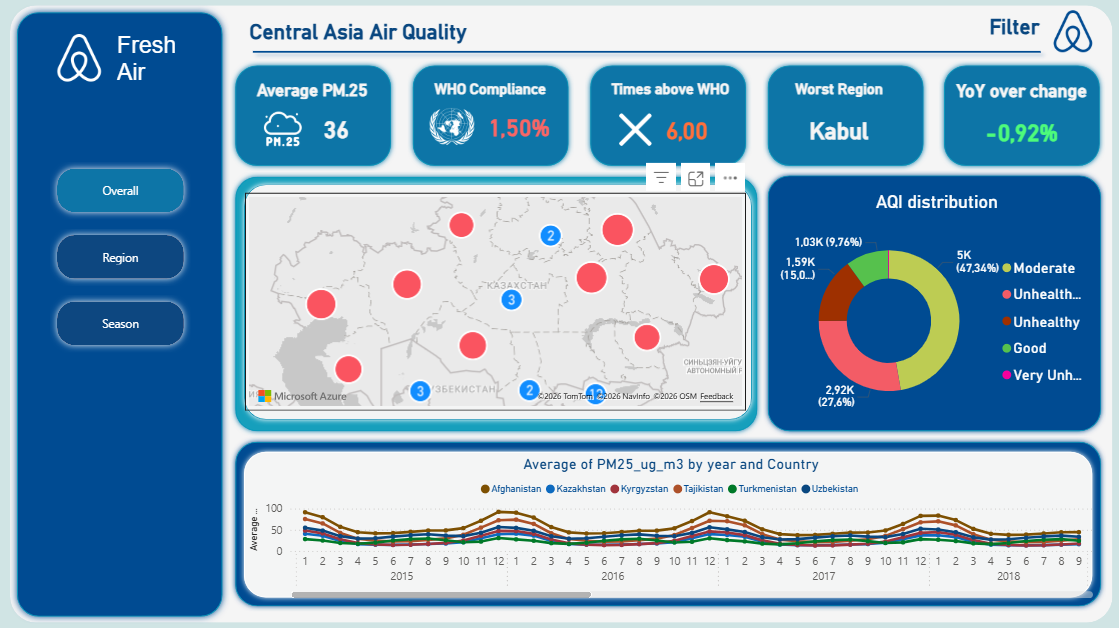

What the dashboard file says about the page in this screenshot:
{"tool":"powerbi","page":{"name":"Overall","canvas":[1280,720],"ordinal":0},"visuals":[{"type":"shape","box":[11.4,6.4,1260,705.7],"z":0},{"type":"shape","box":[10.8,6.7,250.8,706.7],"z":1000},{"type":"image","box":[1188.3,13.3,75,48.3],"z":2000},{"type":"image","box":[53.3,40,75.3,54.7],"z":3000},{"type":"textbox","box":[128.7,32.7,86.7,73.3],"z":4000},{"type":"shape","box":[263.3,70,190,126.7],"z":5000},{"type":"shape","box":[280,33.3,918.3,55],"z":6000},{"type":"shape","box":[465.8,70,190,126.7],"z":7000},{"type":"shape","box":[668.3,70,190,126.7],"z":8000},{"type":"shape","box":[870.8,70,190,126.7],"z":9000},{"type":"shape","box":[1073.3,70,190,126.7],"z":10000},{"type":"shape","box":[262.9,197.1,608.6,302.9],"z":11000},{"type":"shape","box":[871.4,195.7,392.9,304.3],"z":12000},{"type":"cardVisual","title":"Average PM.25","fields":{"Data":["Avg(central_asia_air.PM25_ug_m3)"]},"box":[273.3,93.3,168.3,95],"z":13000},{"type":"cardVisual","title":"WHO Compliance","fields":{"Data":["All measures.WHO Failure Rate"]},"box":[458.3,93.3,203.3,91.7],"z":14000},{"type":"cardVisual","title":"Times above WHO ","fields":{"Data":["Min(central_asia_air.Times_Above_WHO)"]},"box":[678.3,93.3,175,100],"z":15000},{"type":"shape","box":[272.5,206.2,592.5,281.2],"z":16000},{"type":"cardVisual","title":"Worst Region","fields":{"Data":["All measures.Worst Region Name"]},"box":[871.7,93.3,175,100],"z":17000},{"type":"cardVisual","title":"YoY over change","fields":{"Data":["All measures.YoY Change %"]},"box":[1080,93.3,175,100],"z":18000},{"type":"azureMap","fields":{"Category":["central_asia_air.Region"],"Size":["Avg(central_asia_air.PM25_ug_m3)"]},"box":[280,221.4,572.9,248.6],"z":19000},{"type":"donutChart","title":"AQI distribution","fields":{"Category":["central_asia_air.AQI_Category"],"Y":["CountNonNull(central_asia_air.AQI_Category)"]},"box":[884.3,220,372.9,277.1],"z":20000},{"type":"shape","box":[262.9,500,1001.4,200],"z":21000},{"type":"shape","box":[272.9,511.4,981.4,178.6],"z":22000},{"type":"lineChart","title":"Average of PM25_ug_m3 by year  and Country","fields":{"Category":["central_asia_air.Date.Variation.Date Hierarchy.Year","central_asia_air.Month"],"Y":["Avg(central_asia_air.PM25_ug_m3)"],"Series":["central_asia_air.Country"]},"box":[280,521.4,974.3,168.6],"z":23000},{"type":"pageNavigator","box":[56.7,185,161.7,220],"z":24000},{"type":"textbox","box":[280,18.6,300,42.9],"z":25000},{"type":"textbox","box":[1125,13.3,101.7,43.3],"z":27000}]}

Visuals, with their boxes in screenshot pixels (x1, y1, x2, y2), scaled from the page's 1280x720 canvas onto the 1119x628 screenshot:
shape: x1=10, y1=6, x2=1111, y2=621
shape: x1=9, y1=6, x2=229, y2=622
image: x1=1039, y1=12, x2=1104, y2=54
image: x1=47, y1=35, x2=112, y2=83
textbox: x1=113, y1=29, x2=188, y2=92
shape: x1=230, y1=61, x2=396, y2=172
shape: x1=245, y1=29, x2=1048, y2=77
shape: x1=407, y1=61, x2=573, y2=172
shape: x1=584, y1=61, x2=750, y2=172
shape: x1=761, y1=61, x2=927, y2=172
shape: x1=938, y1=61, x2=1104, y2=172
shape: x1=230, y1=172, x2=762, y2=436
shape: x1=762, y1=171, x2=1105, y2=436
"Average PM.25" cardVisual: x1=239, y1=81, x2=386, y2=164
"WHO Compliance" cardVisual: x1=401, y1=81, x2=578, y2=161
"Times above WHO " cardVisual: x1=593, y1=81, x2=746, y2=169
shape: x1=238, y1=180, x2=756, y2=425
"Worst Region" cardVisual: x1=762, y1=81, x2=915, y2=169
"YoY over change" cardVisual: x1=944, y1=81, x2=1097, y2=169
azureMap - central_asia_air.Region x Avg(central_asia_air.PM25_ug_m3): x1=245, y1=193, x2=746, y2=410
"AQI distribution" donutChart: x1=773, y1=192, x2=1099, y2=434
shape: x1=230, y1=436, x2=1105, y2=611
shape: x1=239, y1=446, x2=1097, y2=602
"Average of PM25_ug_m3 by year  and Country" lineChart: x1=245, y1=455, x2=1097, y2=602
pageNavigator: x1=50, y1=161, x2=191, y2=353
textbox: x1=245, y1=16, x2=507, y2=54
textbox: x1=983, y1=12, x2=1072, y2=49
